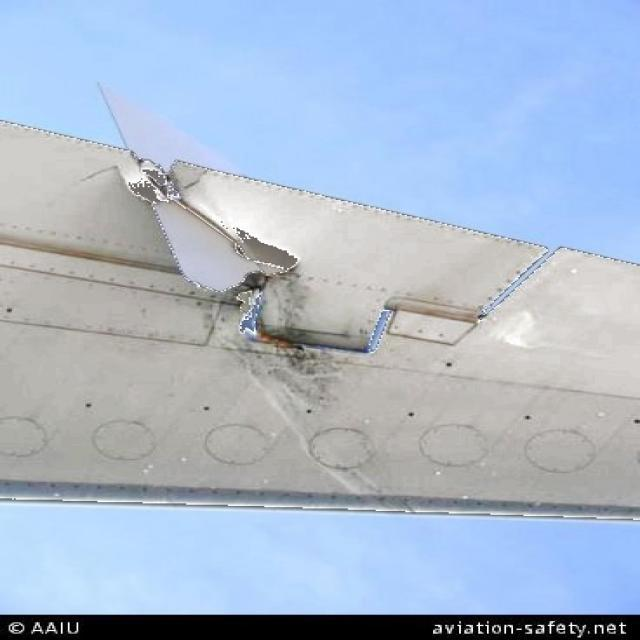crack: (44, 162, 309, 302)
